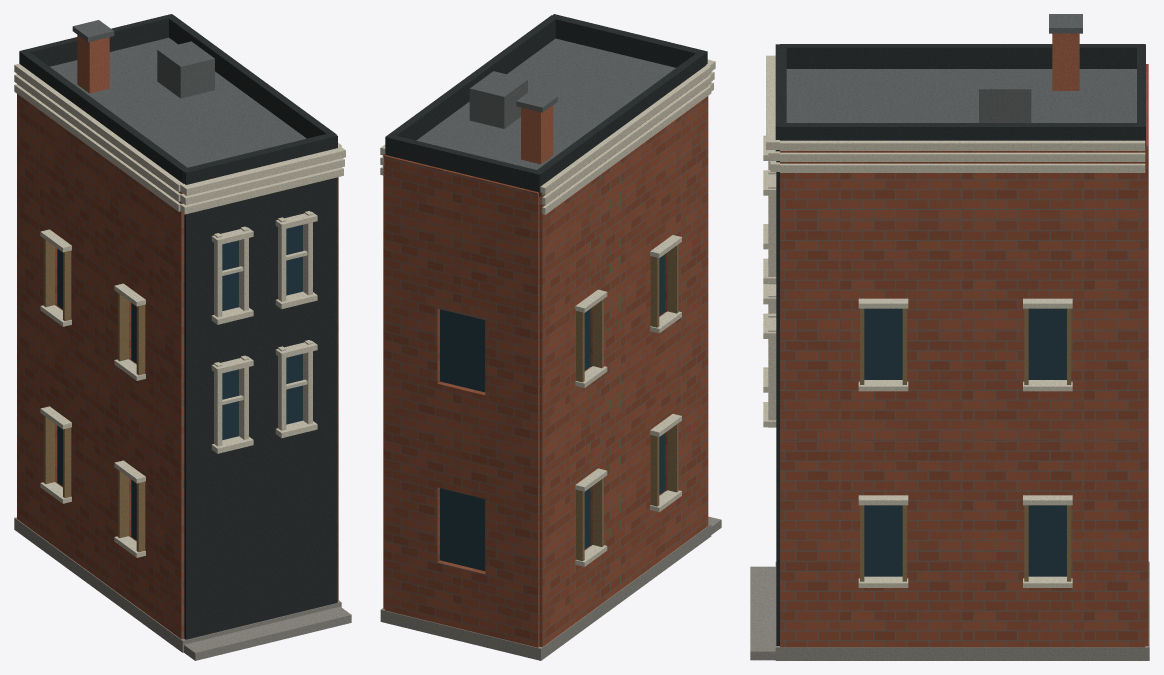
File: WRHS8_lod2.glb
3 renders of one model, left to right at view 1: azimuth 30°, elevation 25°; view 2: azimuth 150°, elevation 25°; view 3: azimuth 270°, elevation 25°, orthographic. The views are drawn at different scales.
Parts seen in each view (by area): view 1: WRHS8_LOD2; view 2: WRHS8_LOD2; view 3: WRHS8_LOD2.
Boxes of the visible parts, x1=… form: WRHS8_LOD2: x1=14, y1=14, x2=351, y2=660; WRHS8_LOD2: x1=380, y1=14, x2=721, y2=660; WRHS8_LOD2: x1=750, y1=14, x2=1149, y2=660.
Size of the model in its own units: 3.71 by 10.45 by 6.57.
Materials: 9 (7 with a texture image).
